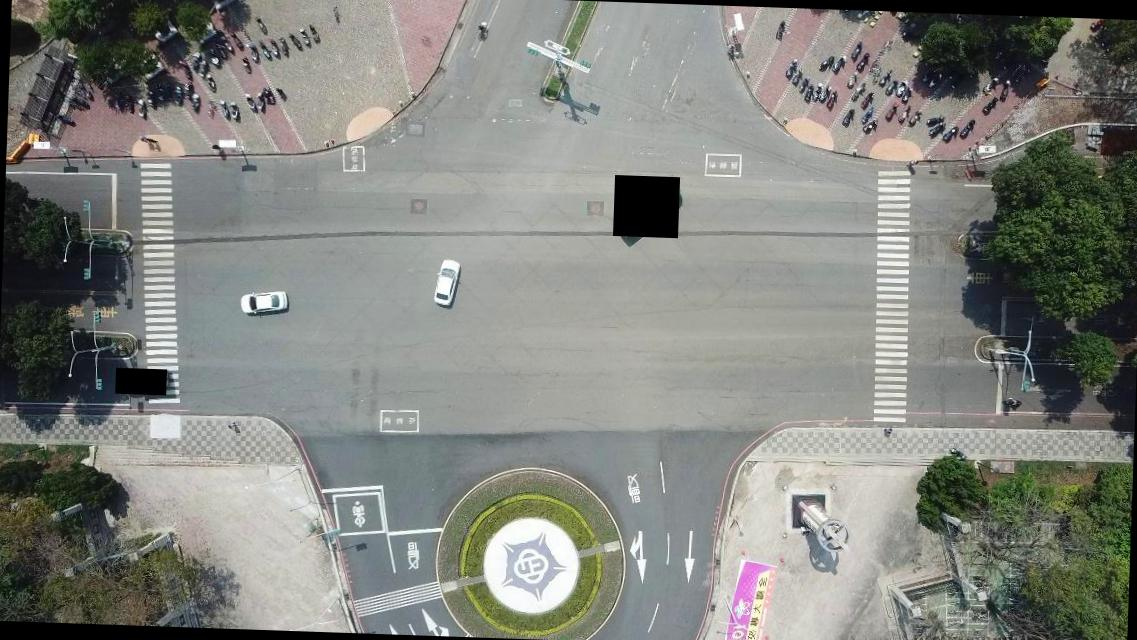vehicle: (236, 288, 288, 316), (432, 257, 462, 305)
